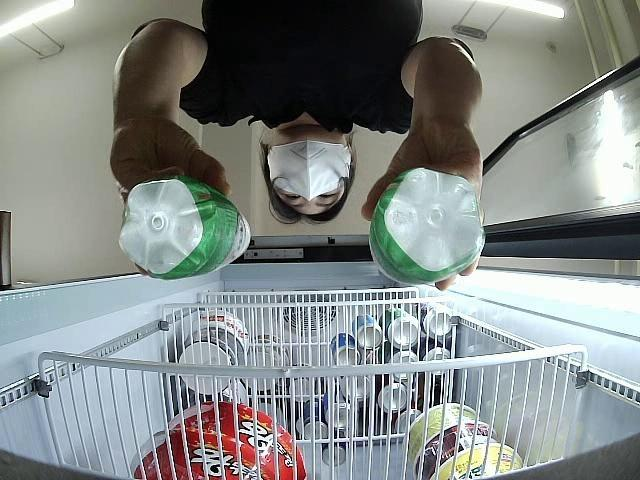18_trevi: (370, 165, 484, 292), (119, 178, 252, 282)
